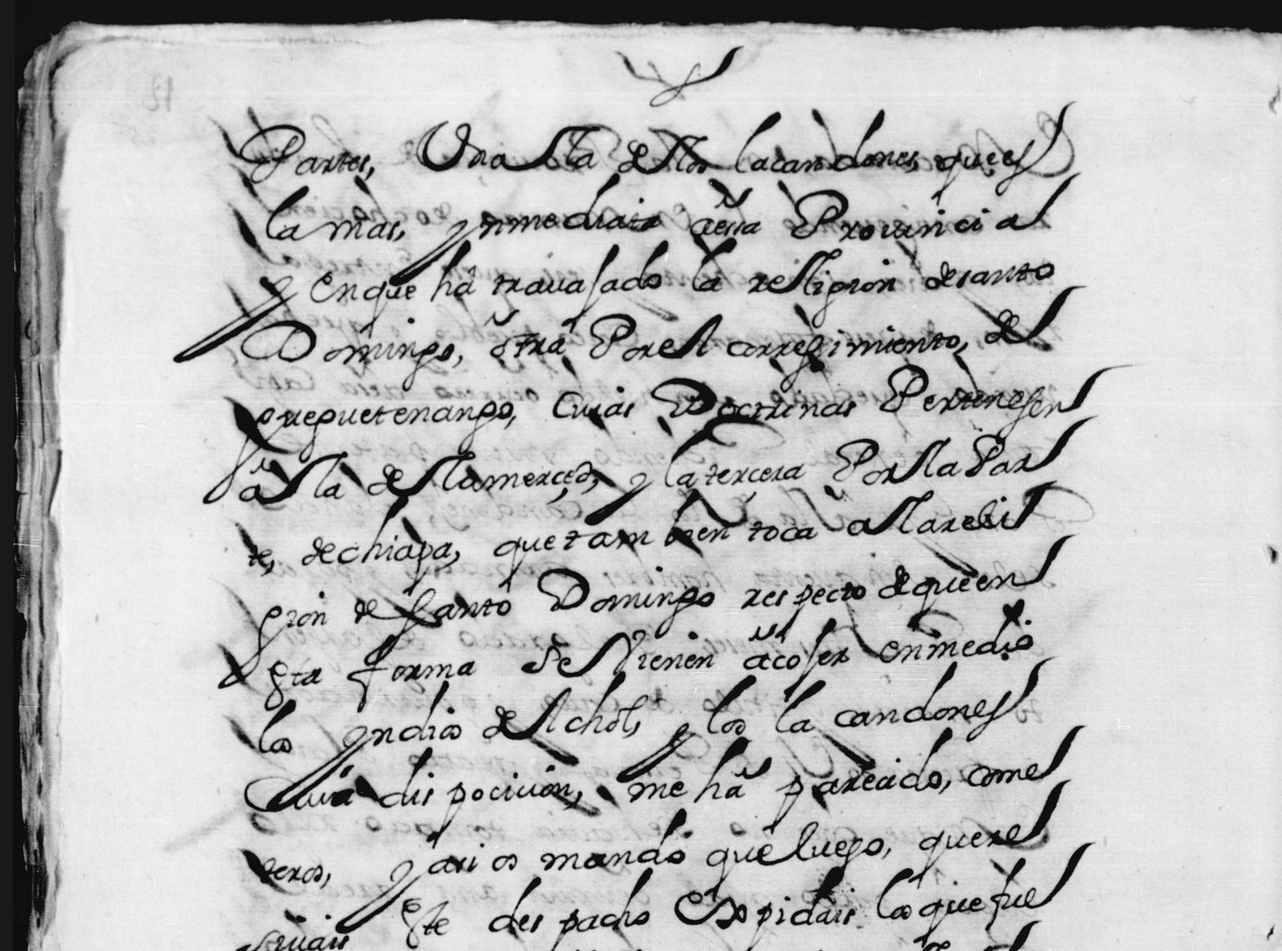lacandon: (775, 656, 1054, 742)
